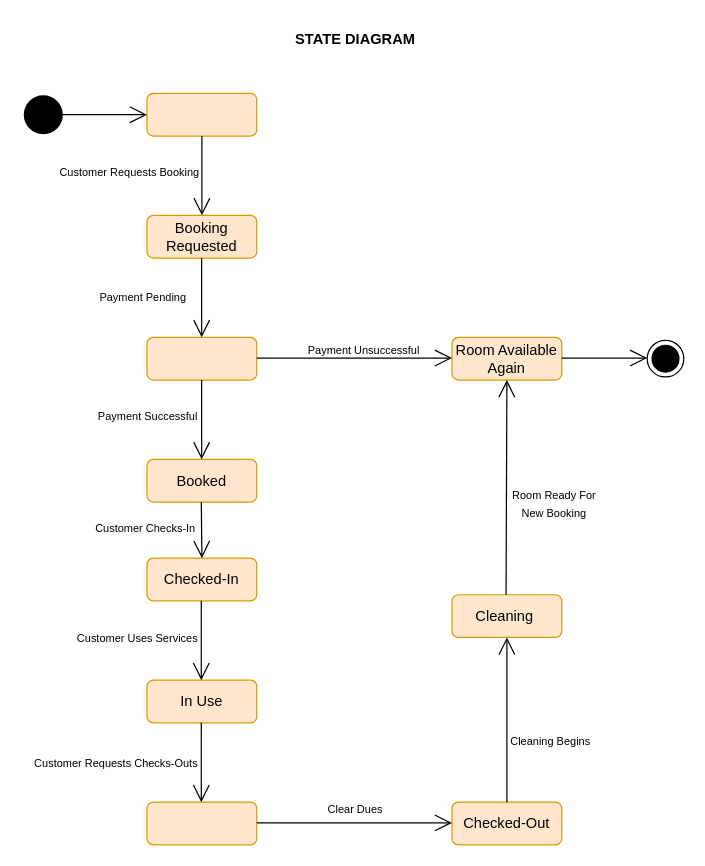
The diagram is 705 pixels wide and 866 high, and some of its shapes have lost their labels. The shapes that lost their labels are listed below. From the top down, each one's centre as x and y in pixels, then its label:
point 201,114: Room Available
point 201,358: Pending Payment
point 201,823: Check-Out Requested
